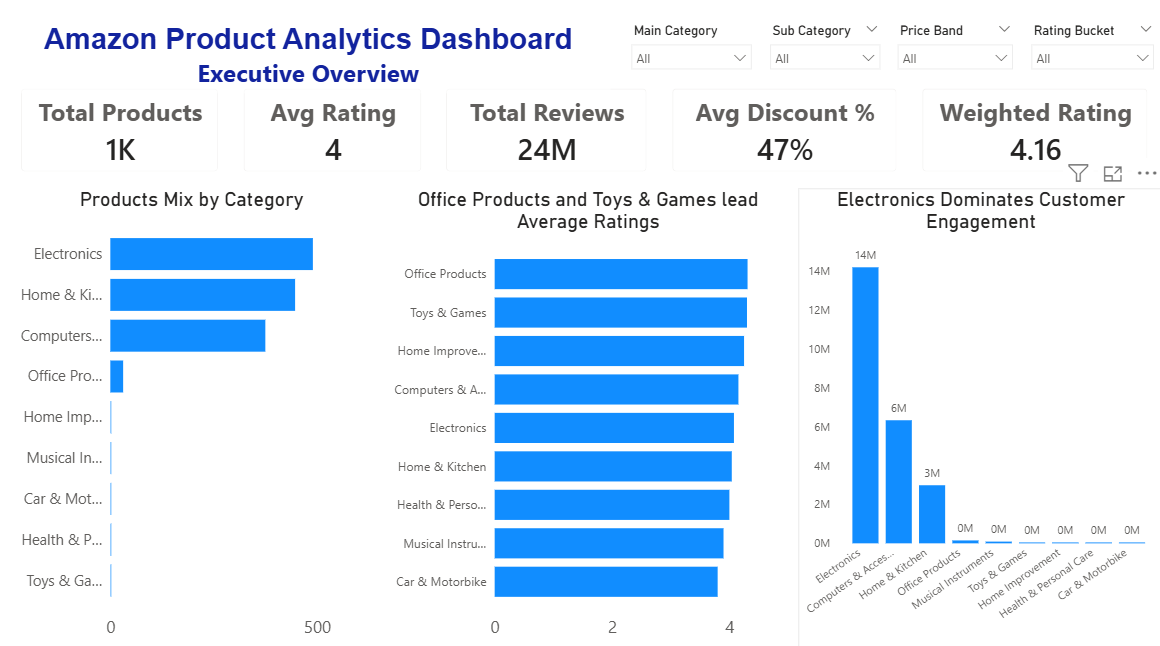

Layout of this report page (visuals, bound fields, positions):
{"tool":"powerbi","page":{"name":"Executive Overview","canvas":[1280,720],"ordinal":0},"visuals":[{"type":"cardVisual","fields":{"Data":["Table.Total Products"]},"box":[10,89.6,250.4,125.2],"z":0},{"type":"cardVisual","fields":{"Data":["Table.Avg Rating"]},"box":[253.9,89.6,229,125.2],"z":1000},{"type":"cardVisual","fields":{"Data":["Table.Total Reviews"]},"box":[476.6,89.6,254.6,125.2],"z":2000},{"type":"cardVisual","fields":{"Data":["Table.Avg Discount %"]},"box":[724.8,89.6,280.2,125.2],"z":3000},{"type":"cardVisual","fields":{"Data":["Table.Weighted Rating"]},"box":[998.3,89.6,281.7,125.2],"z":4000},{"type":"barChart","title":"Products Distribution by Category","fields":{"Y":["Table.Total Products"],"Category":["FactProducts.main_category"]},"box":[10,214.8,408.3,505],"z":5000},{"type":"clusteredBarChart","title":"Category Rating Performance","fields":{"Category":["FactProducts.main_category"],"Y":["Table.Avg Rating"]},"box":[417.9,214.9,461.1,504.3],"z":6000},{"type":"clusteredColumnChart","title":"Customer Engagement by Category","fields":{"Category":["FactProducts.main_category"],"Y":["Table.Total Reviews"]},"box":[879.1,214.8,401.2,505],"z":7000},{"type":"slicer","fields":{"Values":["FactProducts.main_category"]},"box":[685.7,28.5,152.2,61.2],"z":8000},{"type":"slicer","fields":{"Values":["FactProducts.sub_category"]},"box":[837.8,28.5,140.8,61.2],"z":9000},{"type":"slicer","fields":{"Values":["FactProducts.Price Band"]},"box":[978.5,28.5,146.5,61.2],"z":10000},{"type":"slicer","fields":{"Values":["FactProducts.rating_bucket"]},"box":[1124.9,28.5,155.1,61.2],"z":11000},{"type":"textbox","box":[9.6,28.8,664.2,82.3],"z":12000}]}

Visuals, with their boxes in screenshot pixels (x1, y1, x2, y2), scaled from the page's 1280x720 canvas onto the 1160x646 screenshot:
cardVisual - Table.Total Products: region(9, 80, 236, 193)
cardVisual - Table.Avg Rating: region(230, 80, 438, 193)
cardVisual - Table.Total Reviews: region(432, 80, 663, 193)
cardVisual - Table.Avg Discount %: region(657, 80, 911, 193)
cardVisual - Table.Weighted Rating: region(905, 80, 1159, 193)
"Products Distribution by Category" barChart: region(9, 193, 379, 645)
"Category Rating Performance" clusteredBarChart: region(379, 193, 797, 645)
"Customer Engagement by Category" clusteredColumnChart: region(797, 193, 1159, 645)
slicer - FactProducts.main_category: region(621, 26, 759, 80)
slicer - FactProducts.sub_category: region(759, 26, 887, 80)
slicer - FactProducts.Price Band: region(887, 26, 1020, 80)
slicer - FactProducts.rating_bucket: region(1019, 26, 1159, 80)
textbox: region(9, 26, 611, 100)
